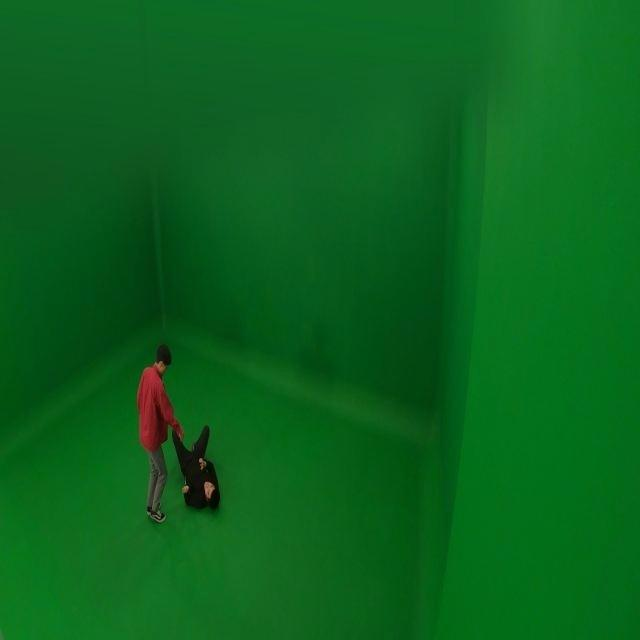fight: (133, 340, 226, 524)
